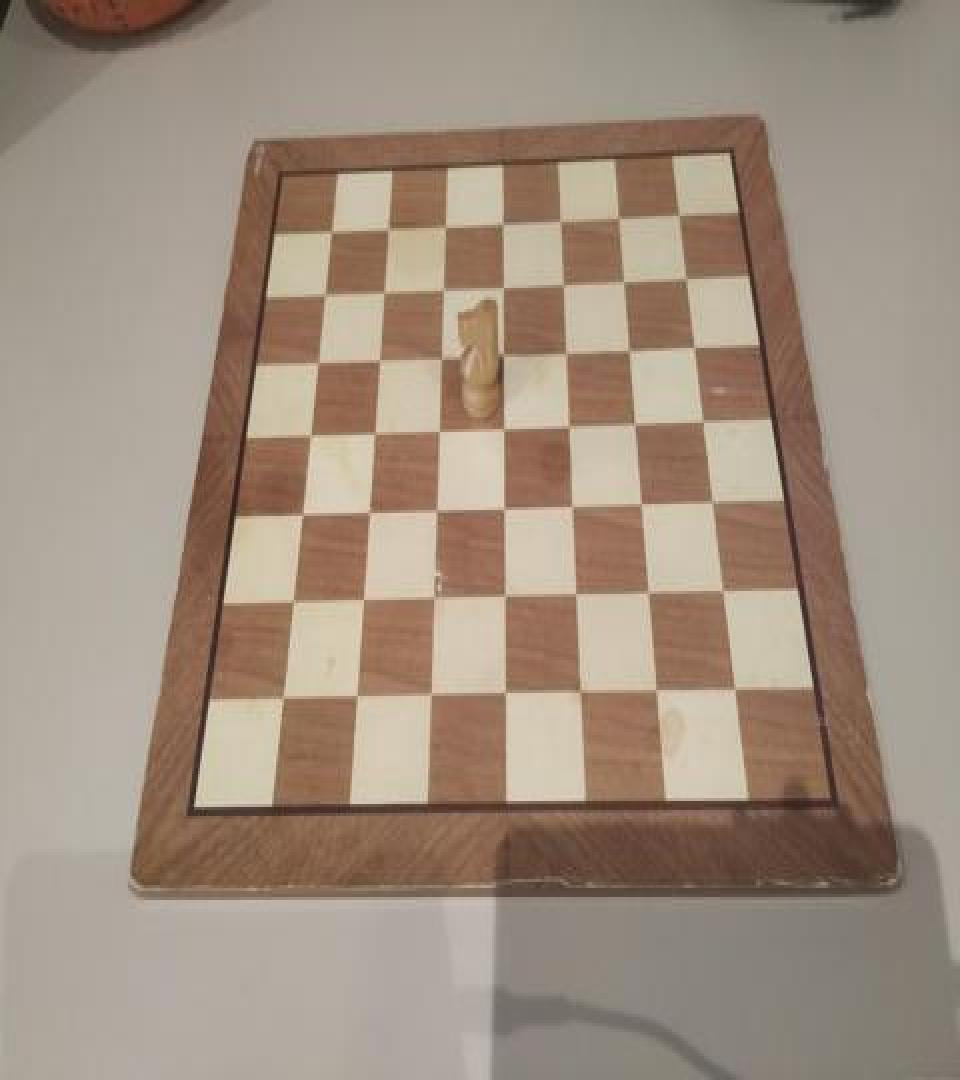xcorner: (356, 499, 376, 530), (610, 199, 630, 230), (269, 687, 289, 717), (343, 686, 363, 716), (417, 684, 437, 714), (568, 681, 588, 711), (645, 680, 665, 710), (722, 678, 742, 708), (279, 591, 299, 621), (350, 588, 370, 618), (492, 585, 512, 615), (565, 584, 585, 614), (711, 579, 731, 609), (289, 501, 309, 531), (424, 498, 444, 528), (492, 495, 512, 525), (561, 494, 581, 524), (631, 490, 651, 520), (701, 489, 721, 519), (297, 420, 317, 450), (362, 418, 382, 448), (427, 416, 447, 446), (492, 414, 512, 444), (558, 411, 578, 441), (625, 408, 645, 438), (692, 406, 712, 436), (305, 346, 325, 376), (367, 344, 387, 374), (429, 340, 449, 370), (492, 339, 512, 369), (556, 336, 576, 366), (619, 333, 639, 363), (684, 330, 704, 360), (312, 278, 332, 308), (372, 274, 392, 304), (432, 272, 452, 302), (492, 268, 512, 298), (553, 267, 573, 297), (614, 264, 634, 294), (676, 261, 696, 291), (319, 213, 339, 243), (376, 212, 396, 242), (434, 208, 454, 238), (492, 206, 512, 236), (551, 202, 571, 232), (669, 196, 689, 226), (493, 683, 513, 712), (421, 587, 441, 616), (638, 581, 658, 610)
